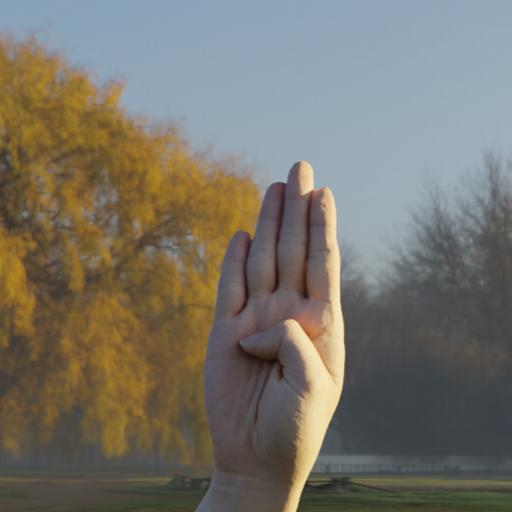B: (198, 156, 363, 480)
